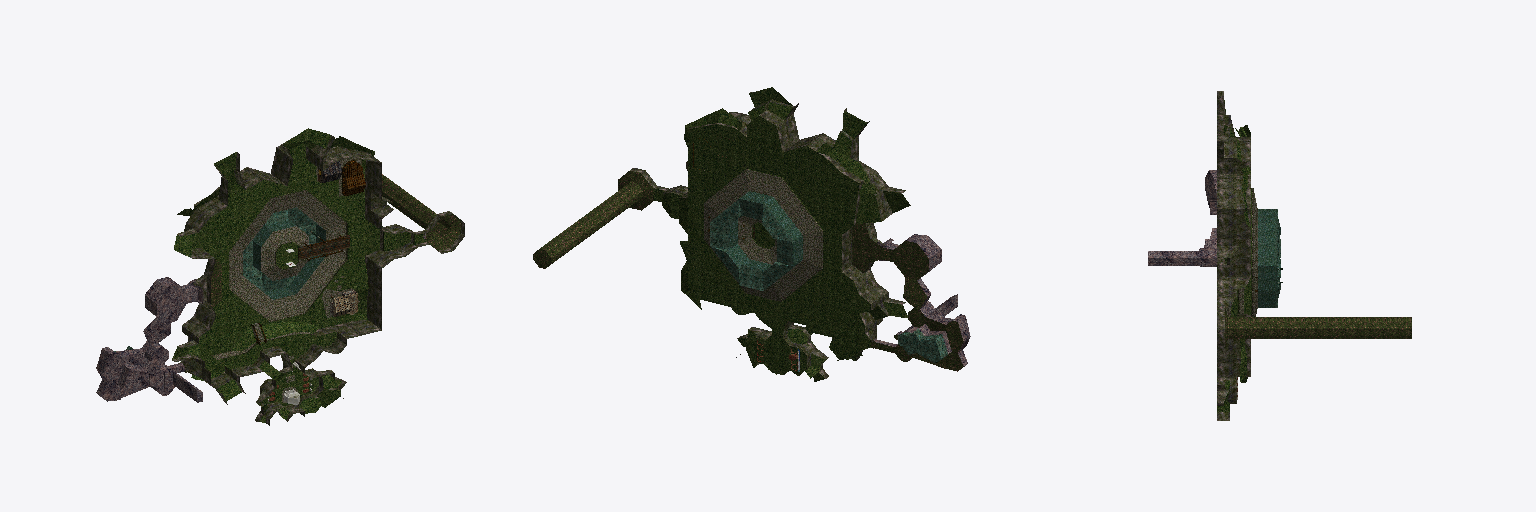
3 views of the same model, side by side, from view 1: azimuth 30°, elevation 25°; view 2: azimuth 150°, elevation 25°; view 3: azimuth 270°, elevation 25° (orthographic).
Bounding box in the file's own units: 840 × 644 × 539.
44 materials, 44 textured.